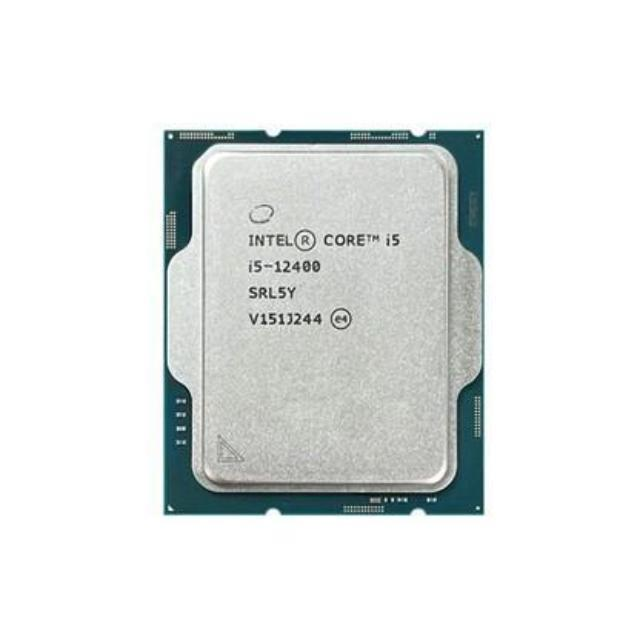CPU: (164, 131, 482, 514)
